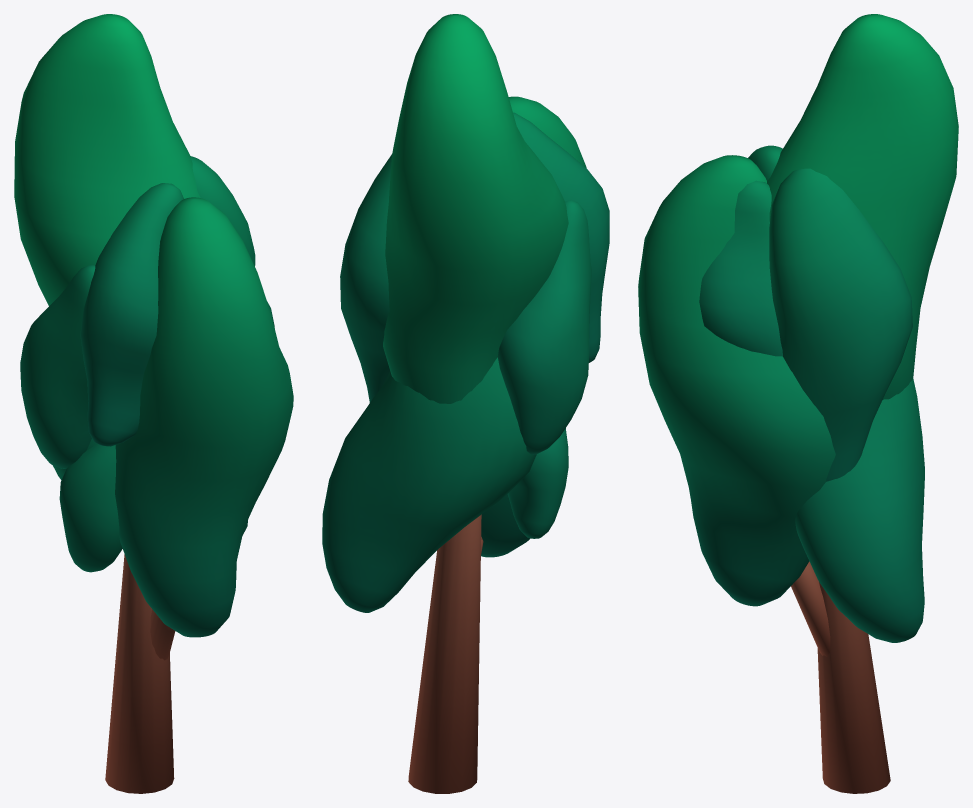
The model's file is Tree01.fbx.
The picture shows the model from 3 angles, left to right: view 1: azimuth 30°, elevation 25°; view 2: azimuth 150°, elevation 25°; view 3: azimuth 270°, elevation 25°; orthographic projection. The views are drawn at different scales.
Parts seen in each view (by area): view 1: Tree01; view 2: Tree01; view 3: Tree01.
Boxes of the visible parts, left/top/right/bottom form: Tree01: left=14, top=14, right=293, bottom=793; Tree01: left=322, top=14, right=609, bottom=793; Tree01: left=638, top=14, right=958, bottom=793.
Bounding box in the file's own units: 1.21 × 3.83 × 1.48.
Materials: 1 (1 with a texture image).
